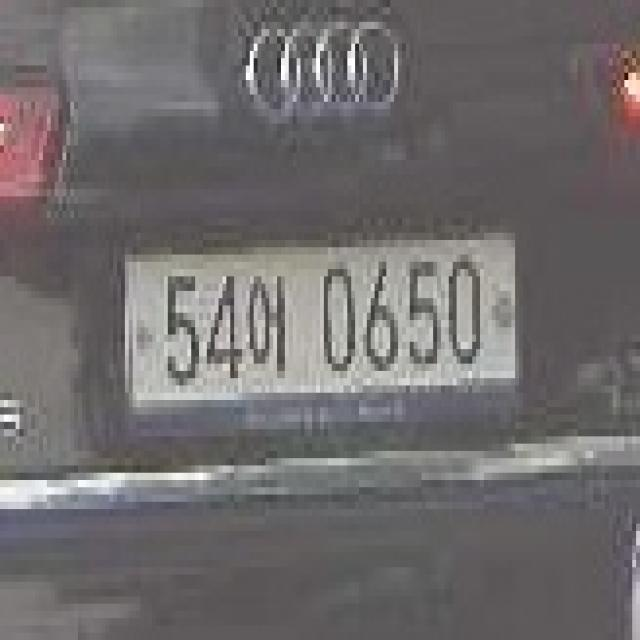0: (445, 247, 488, 371), (316, 254, 359, 371)
4: (199, 254, 242, 386)
5: (160, 247, 203, 393), (402, 233, 445, 371)
6: (363, 248, 398, 386)
eo: (242, 262, 297, 371)
license_plate: (109, 218, 535, 436)
